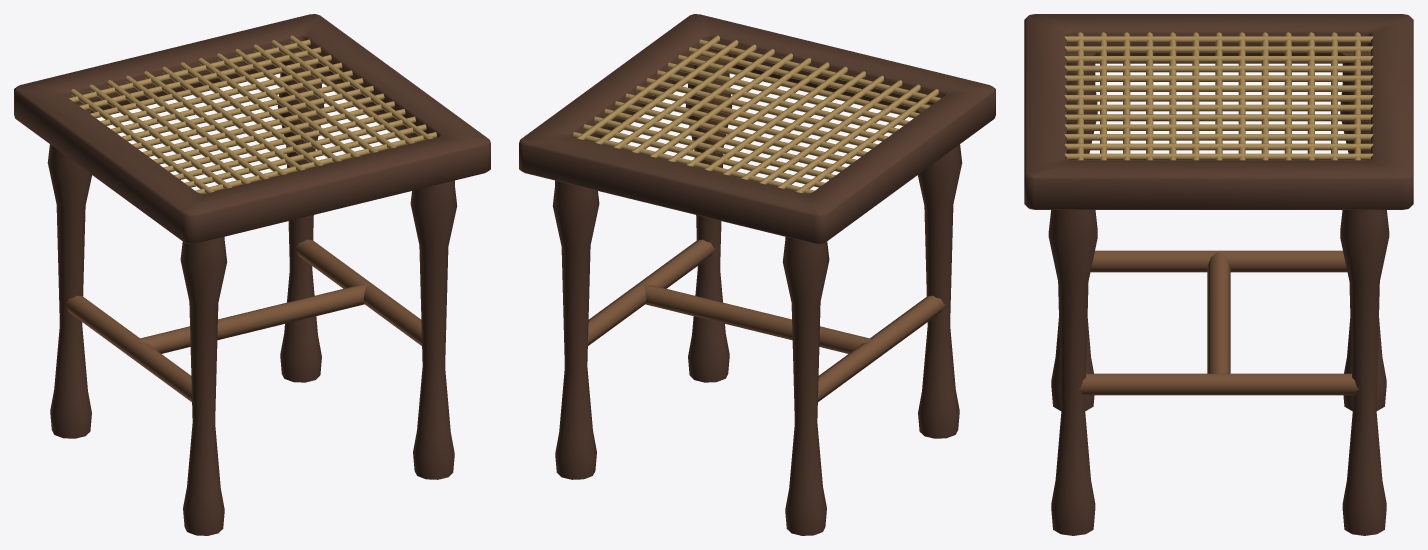
File: rpg-mansion-cane-stool-01.glb
3 views of the same model, side by side, from view 1: azimuth 30°, elevation 25°; view 2: azimuth 150°, elevation 25°; view 3: azimuth 270°, elevation 25° (orthographic). The views are drawn at different scales.
Parts seen in each view (by area): view 1: rpg-mansion-cane-stool-01; view 2: rpg-mansion-cane-stool-01; view 3: rpg-mansion-cane-stool-01.
Part boxes in pixels (box(x1,y1,x2,y2)): rpg-mansion-cane-stool-01: box(14, 14, 490, 535); rpg-mansion-cane-stool-01: box(519, 14, 995, 535); rpg-mansion-cane-stool-01: box(1024, 14, 1413, 535).
Bounding box in the file's own units: 0.438 × 0.46 × 0.438.
